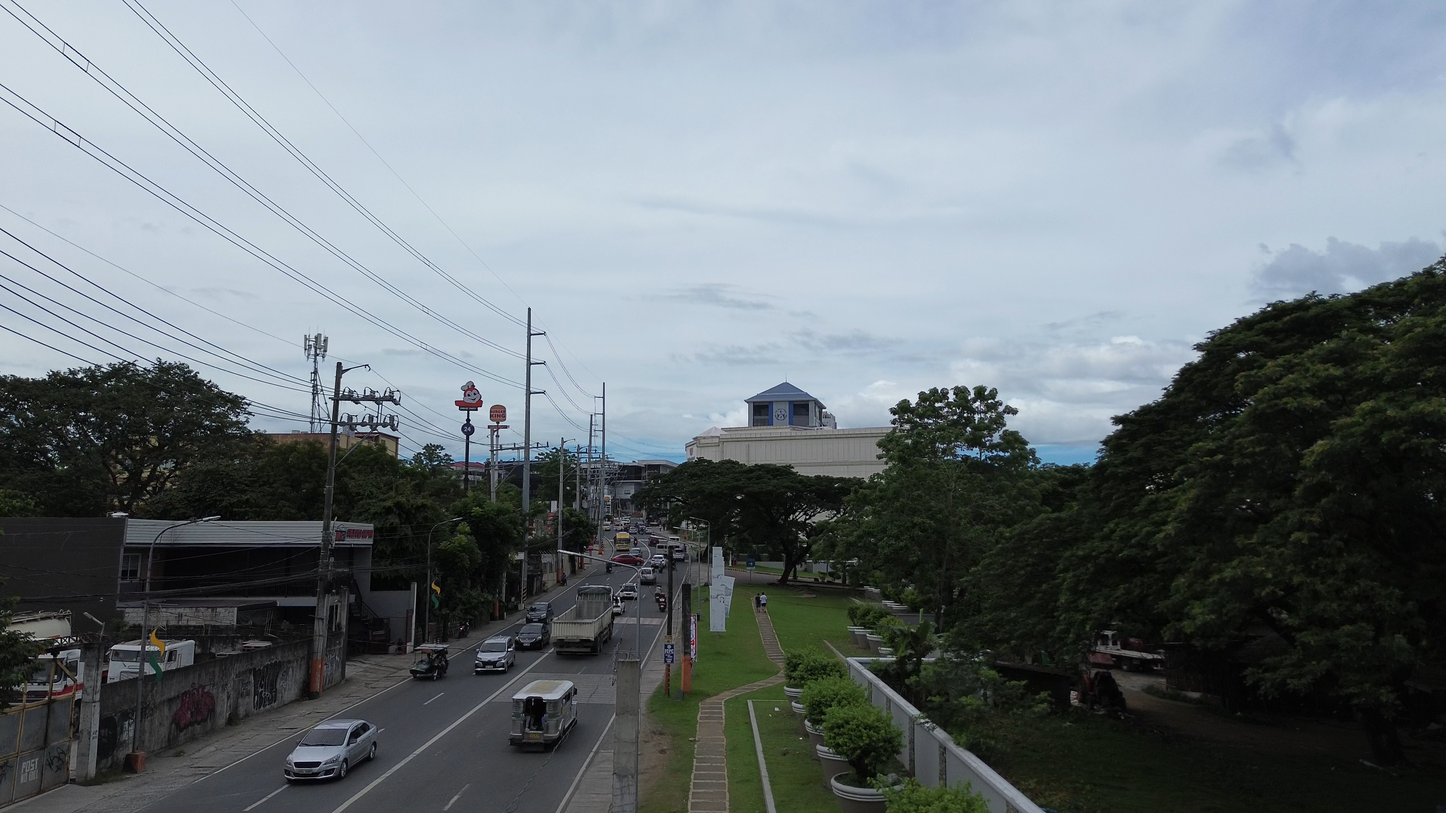car: (284, 719, 377, 781), (612, 553, 644, 565), (612, 597, 624, 616), (628, 546, 645, 557)
truck: (6, 611, 85, 702), (552, 586, 613, 654)
vehicle: (509, 679, 577, 749), (1087, 630, 1164, 671), (474, 634, 515, 673), (146, 639, 195, 671), (409, 643, 448, 681), (516, 623, 550, 649), (526, 601, 553, 623), (617, 583, 638, 600), (669, 541, 686, 561), (614, 531, 631, 551), (639, 566, 656, 584), (649, 554, 667, 570), (611, 597, 625, 617), (654, 592, 667, 612), (628, 546, 645, 557)
